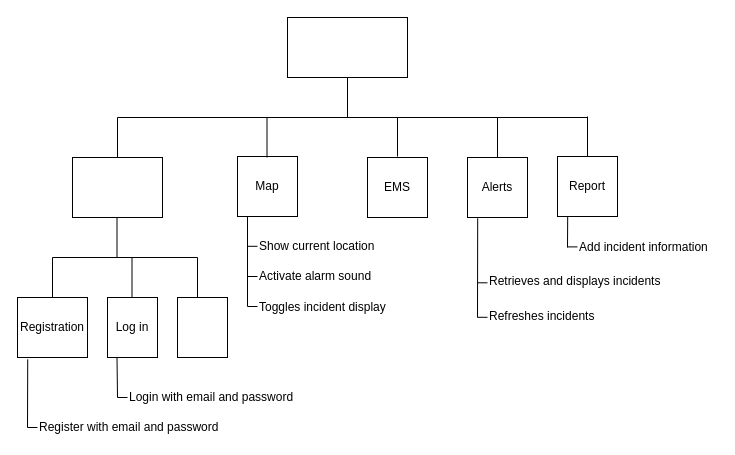
Image size: 735x455. Some labels were removed from this diagram. The shapes that lost their labels are listed below. From the top down, each one's centre as x and y in pixels, then its label:
At point 347,47: "Dog Guard System".
At point 117,187: "Authentication".
At point 202,327: "Log out".
